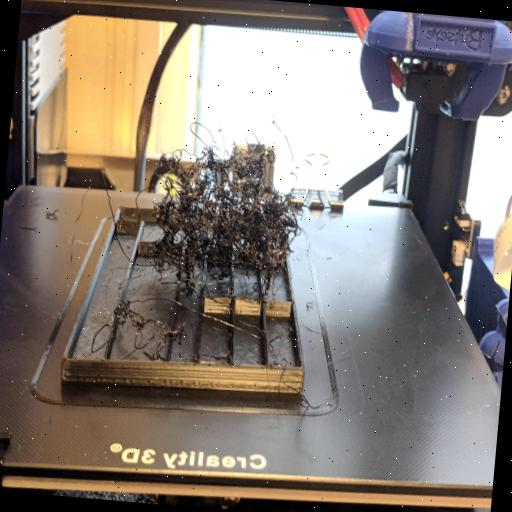spaghetti: (120, 114, 313, 295), (76, 288, 188, 382)
